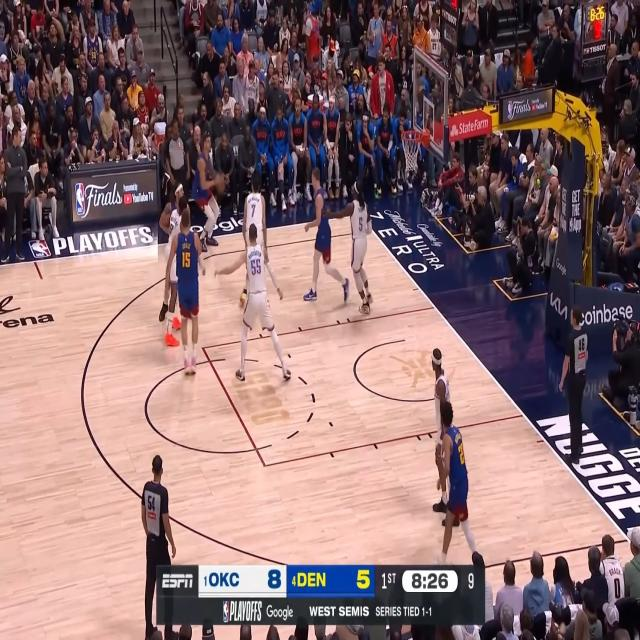ball: (215, 172, 228, 194)
number: (181, 251, 191, 268), (251, 258, 261, 274), (358, 214, 363, 232), (252, 203, 256, 217)
player: (215, 222, 291, 382), (322, 178, 374, 314), (165, 207, 205, 376), (437, 401, 476, 565), (238, 175, 284, 309), (304, 167, 349, 303), (429, 348, 462, 528), (164, 194, 188, 346)
player-dribble: (192, 131, 230, 254)
player-screen: (159, 181, 191, 321)
referee: (142, 453, 178, 640), (559, 302, 589, 466), (162, 118, 192, 197)
rim: (400, 128, 422, 143)
